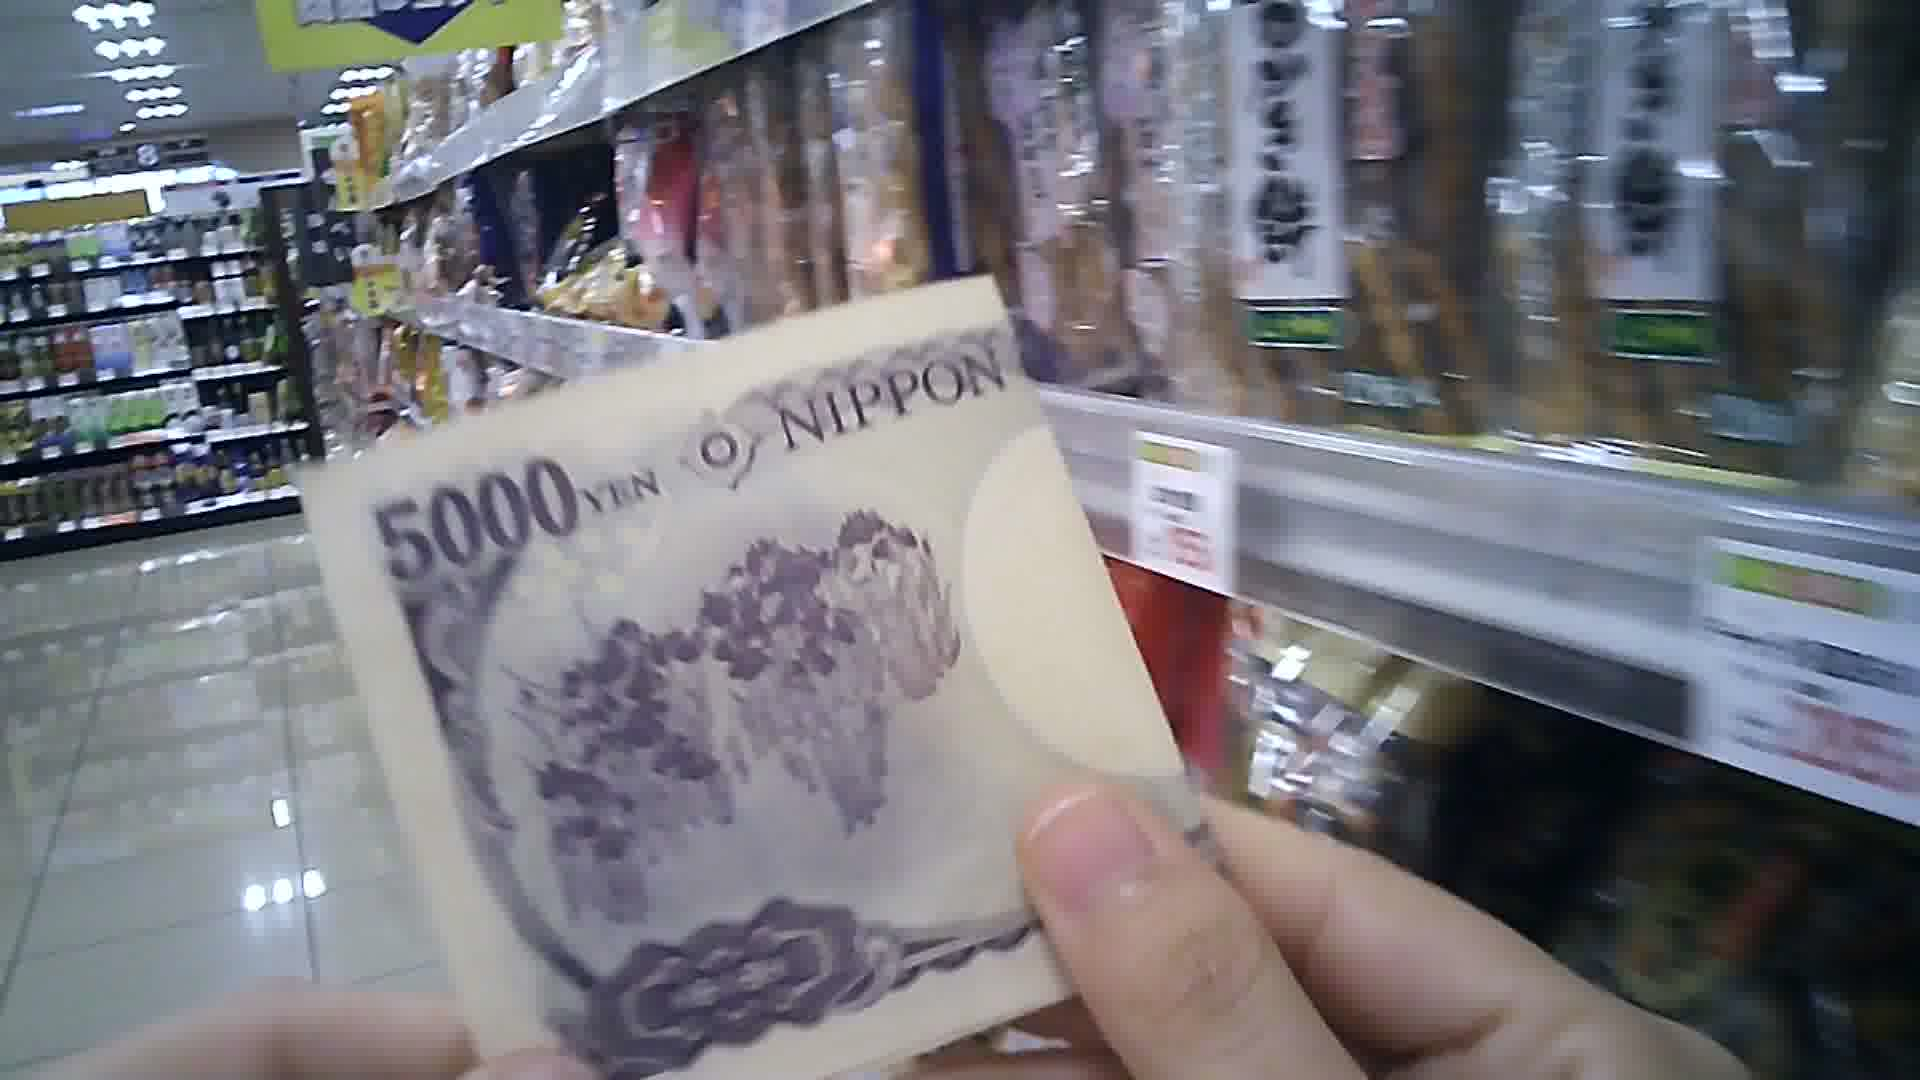5,000 Yen: (302, 277, 1255, 1077)
